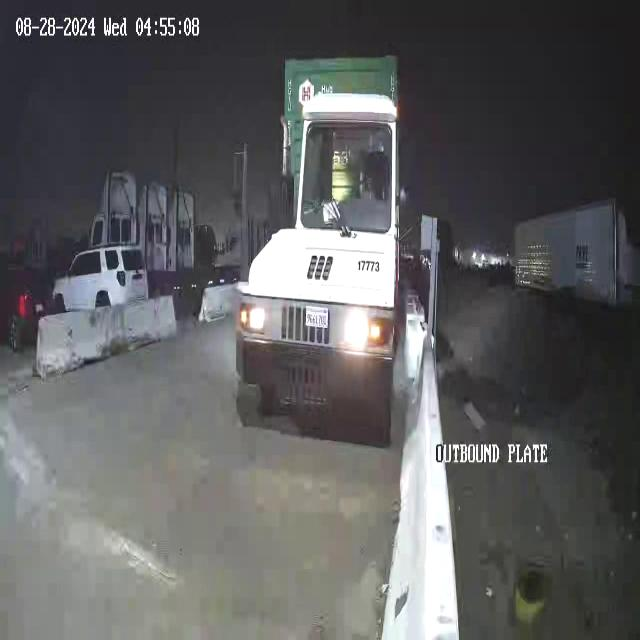CONTAINER: (281, 53, 399, 307)
